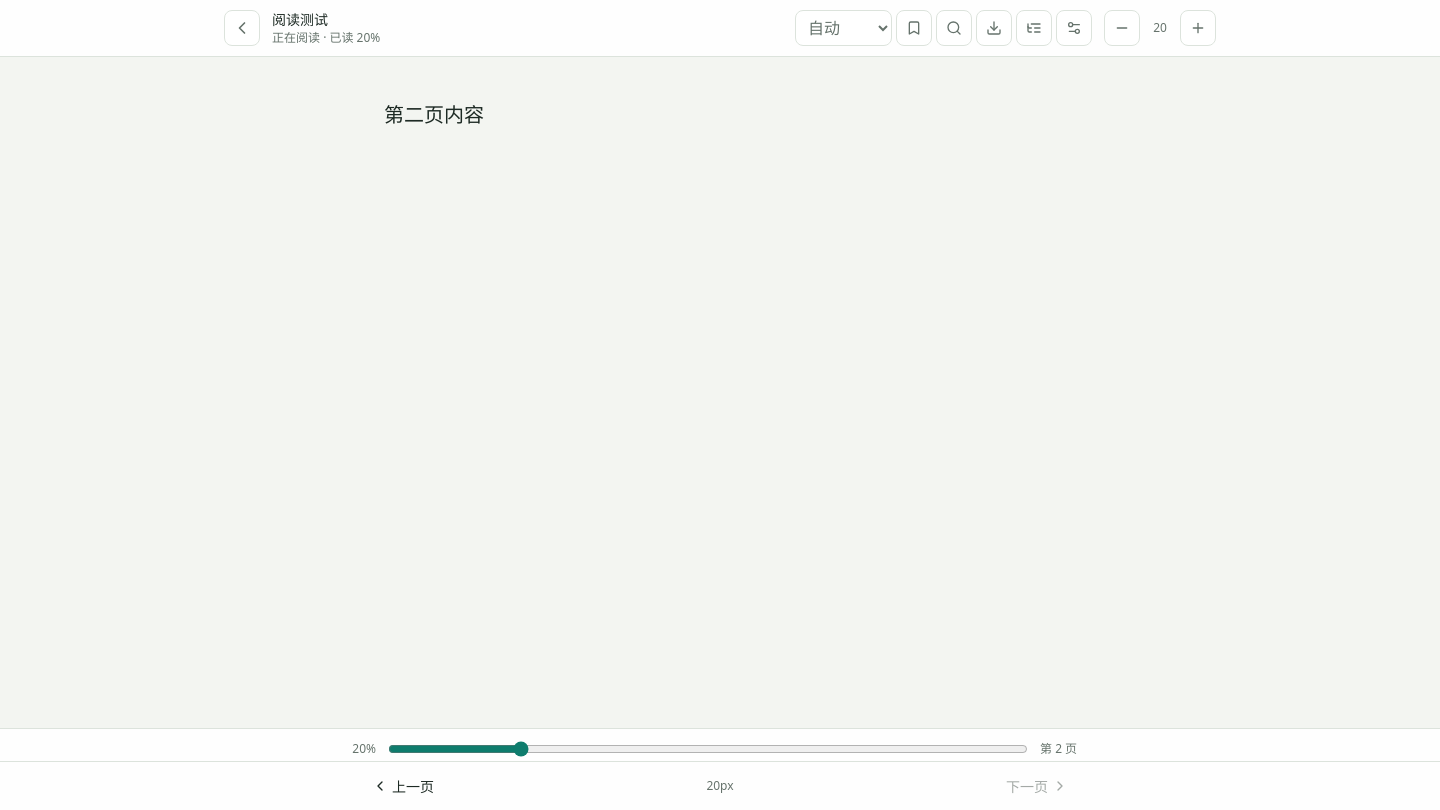
Test: Reader › can go back to earlier content after restoring progress
Expected: the text "第二页内容" is shown, [384,101,484,128]
Expected: the text "第 2 页" is shown, [1040,740,1077,757]
What coordinates should you click on to do the following:
click the button "上一页"
I would click on:
 (403, 786)
Its box is [360,768,446,804].
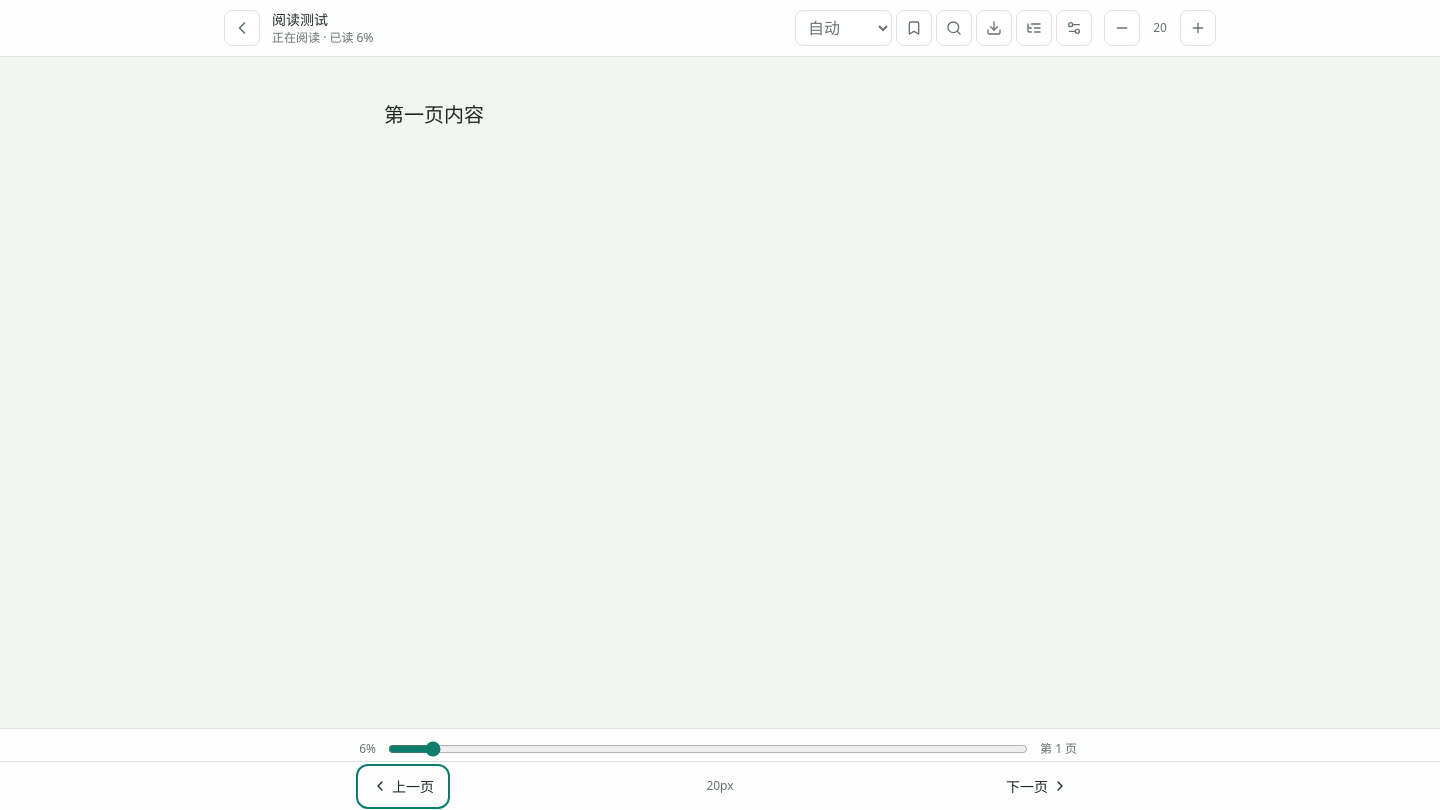
Result: the text "第一页内容" is shown at [384,101,484,128]
Result: the text "第 1 页" is shown at [1040,740,1077,757]
